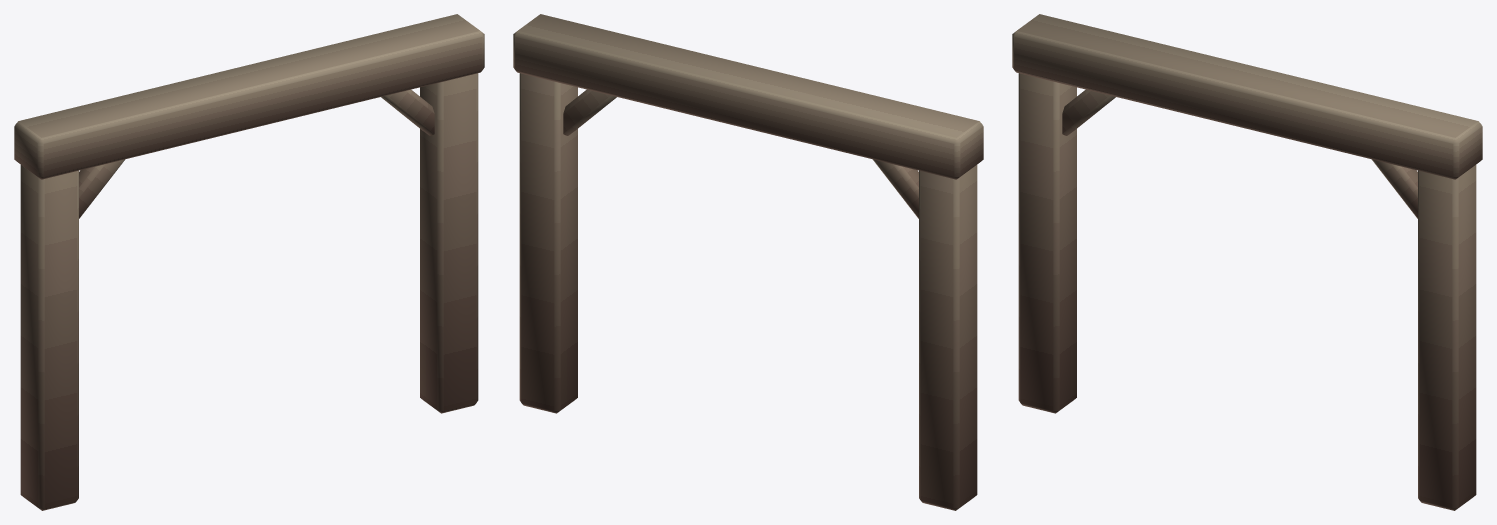
The model's file is DL_Obj_Level5_MineArch3.fbx.
The picture shows the model from 3 angles, left to right: view 1: azimuth 30°, elevation 25°; view 2: azimuth 150°, elevation 25°; view 3: azimuth 330°, elevation 25°; orthographic projection.
Parts seen in each view (by area): view 1: Level5_MineArch3; view 2: Level5_MineArch3; view 3: Level5_MineArch3.
Boxes of the visible parts, box(x1,y1,x2,y2) form: Level5_MineArch3: box(14, 14, 484, 510); Level5_MineArch3: box(513, 14, 983, 510); Level5_MineArch3: box(1012, 14, 1482, 510).
Size of the model in its own units: 560 by 450 by 60.
